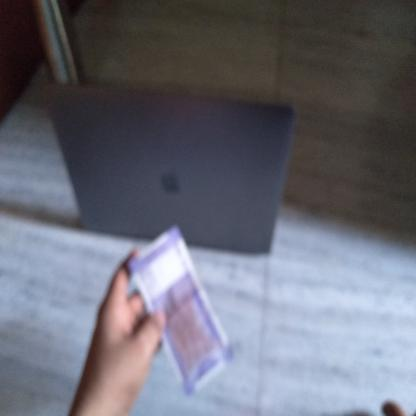New100Back: (138, 231, 222, 386)
